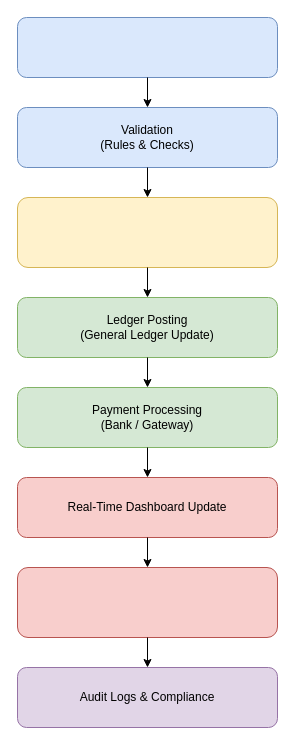
This 295x745 diagram has some shape labels left out. Here are the shapes that lost their labels. From the top down, the centre of each, then its label:
At point 147,47: "Data Entry (Invoice / Payroll / Payment)".
At point 147,232: "Approval Workflow (Manager / Finance Head)".
At point 147,602: "Reporting (P&L, Balance Sheet, Cash Flow)".
